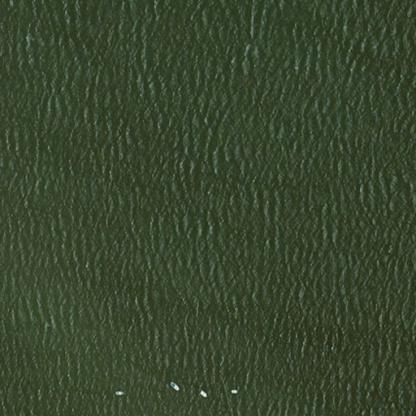ship: (164, 378, 186, 393), (110, 384, 127, 401), (195, 385, 211, 401), (225, 385, 242, 396)
